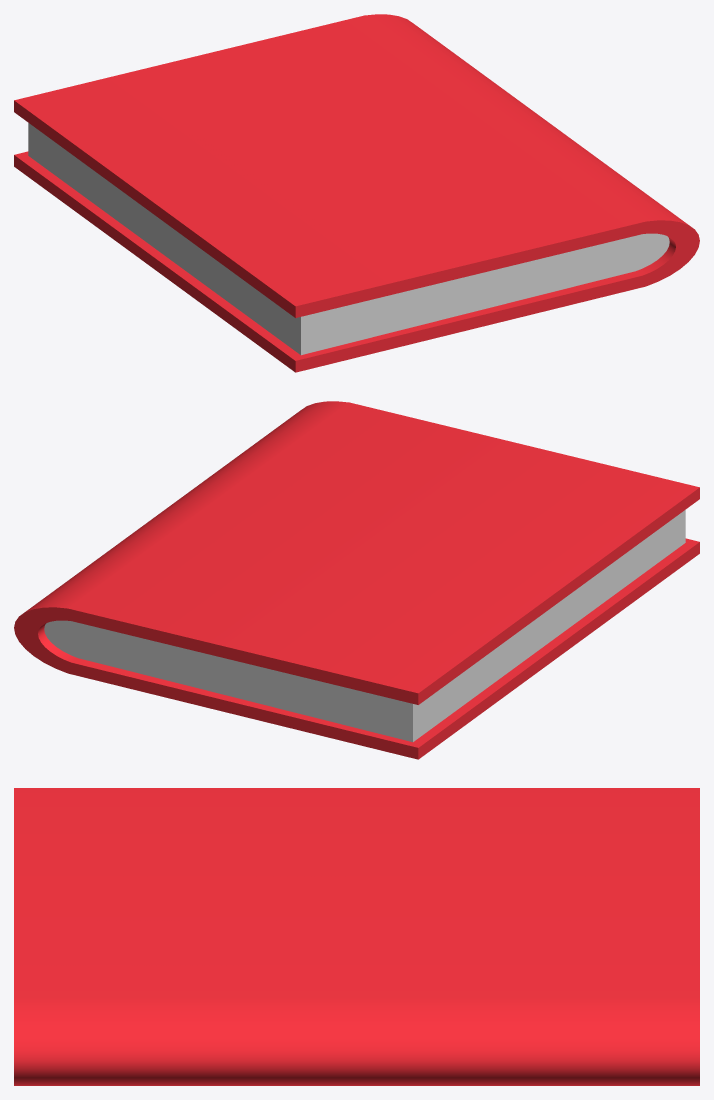
Rendered from Libro.002.glb.
The picture shows the model from 3 angles, top to bottom: view 1: azimuth 30°, elevation 25°; view 2: azimuth 150°, elevation 25°; view 3: azimuth 270°, elevation 25°; orthographic projection. The views are drawn at different scales.
Visible parts, largest first — view 1: Caballete_Libro.002; view 2: Caballete_Libro.002; view 3: Caballete_Libro.002.
Boxes of the visible parts, x1,y1,x2,y2 form: Caballete_Libro.002: (14,14,699,372); Caballete_Libro.002: (14,401,699,759); Caballete_Libro.002: (14,788,699,1085).
Bounding box in the file's own units: 0.2625 × 0.0411 × 0.3165.
